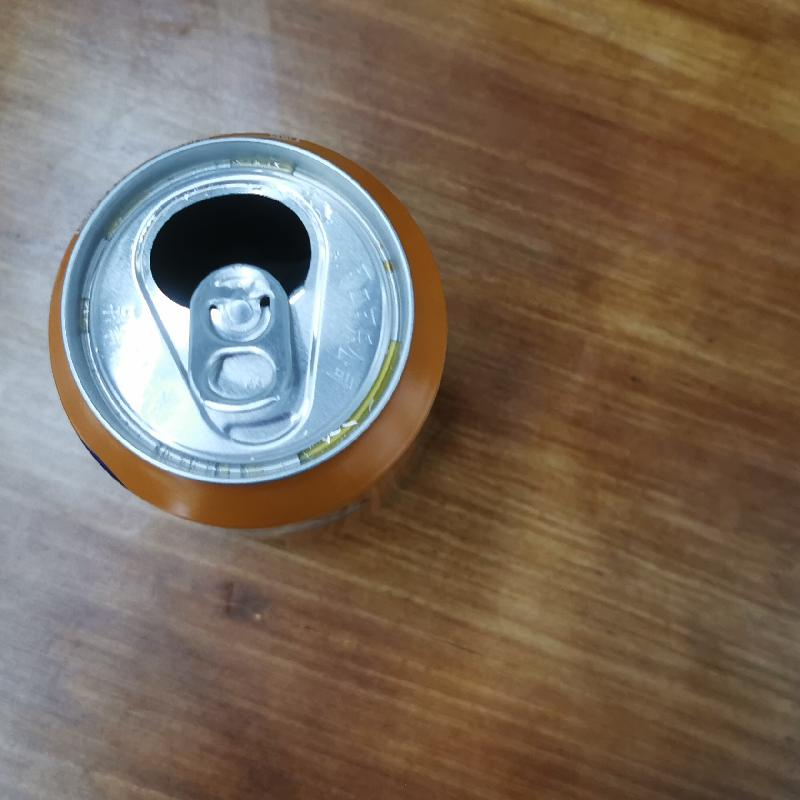cans: (47, 130, 452, 544)
